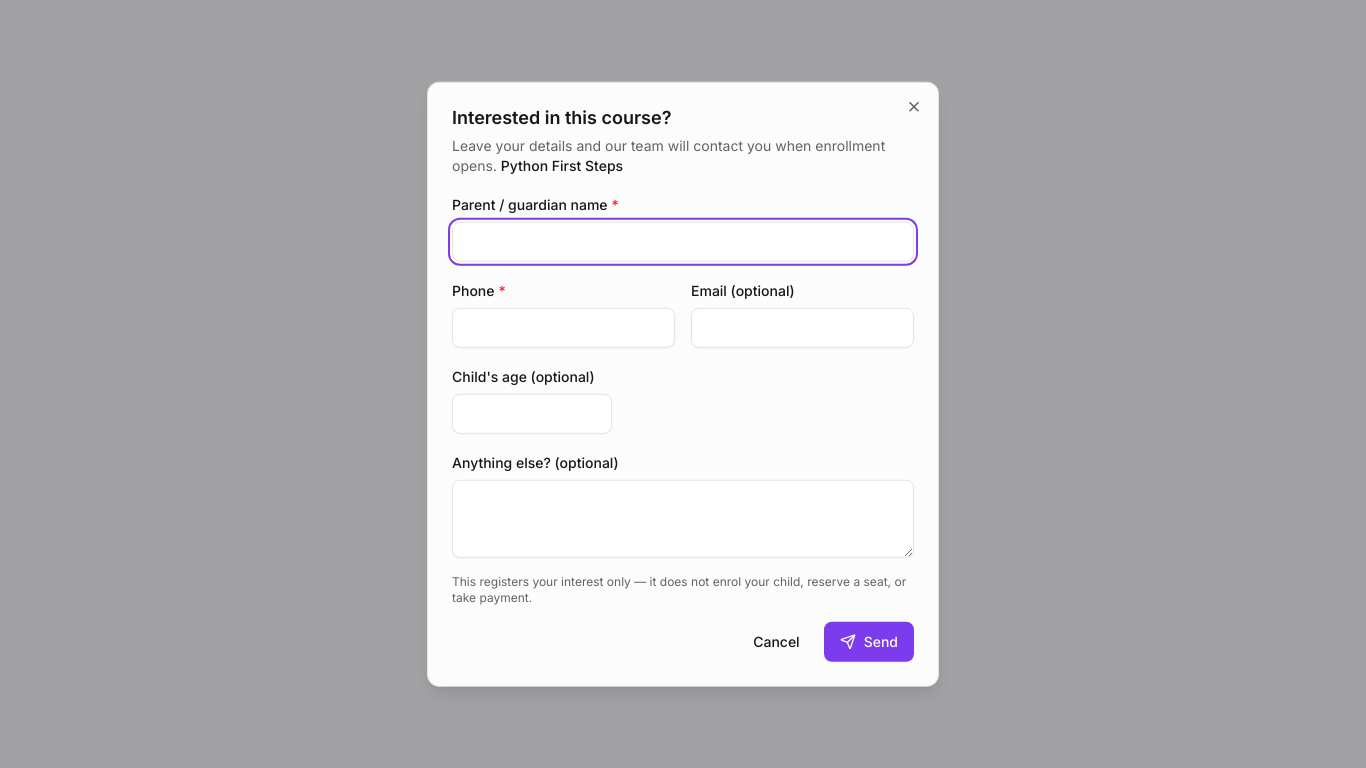
Test: InterestDialog › submits a valid course lead and shows the safe success copy
In the field labelled "Parent / guardian name*": (683,241) 452,221 -> 914,261, type "Ali Ahmed"
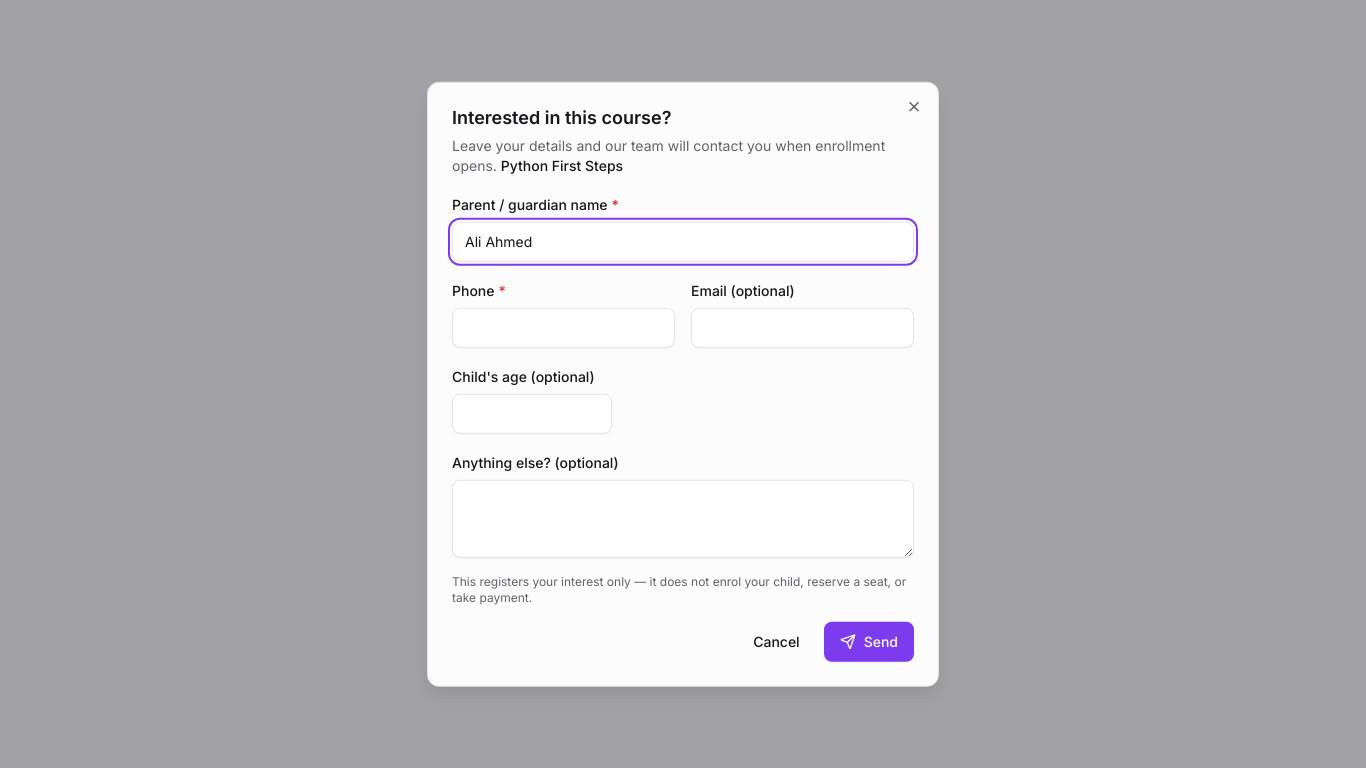
In the field labelled "Phone*": (564,327) 452,307 -> 675,347, type "+20 100 000 0000"
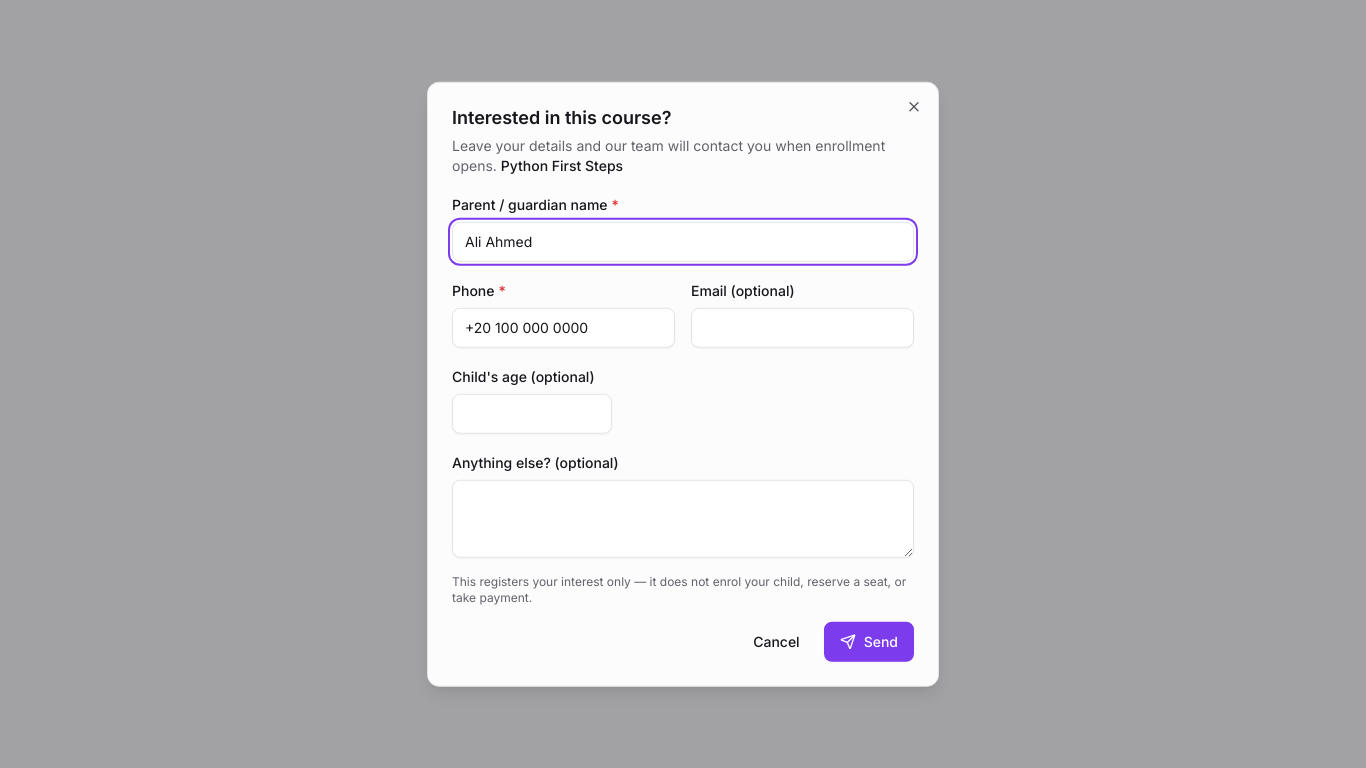
Click the button "Send": (869,641) 824,621 -> 914,661
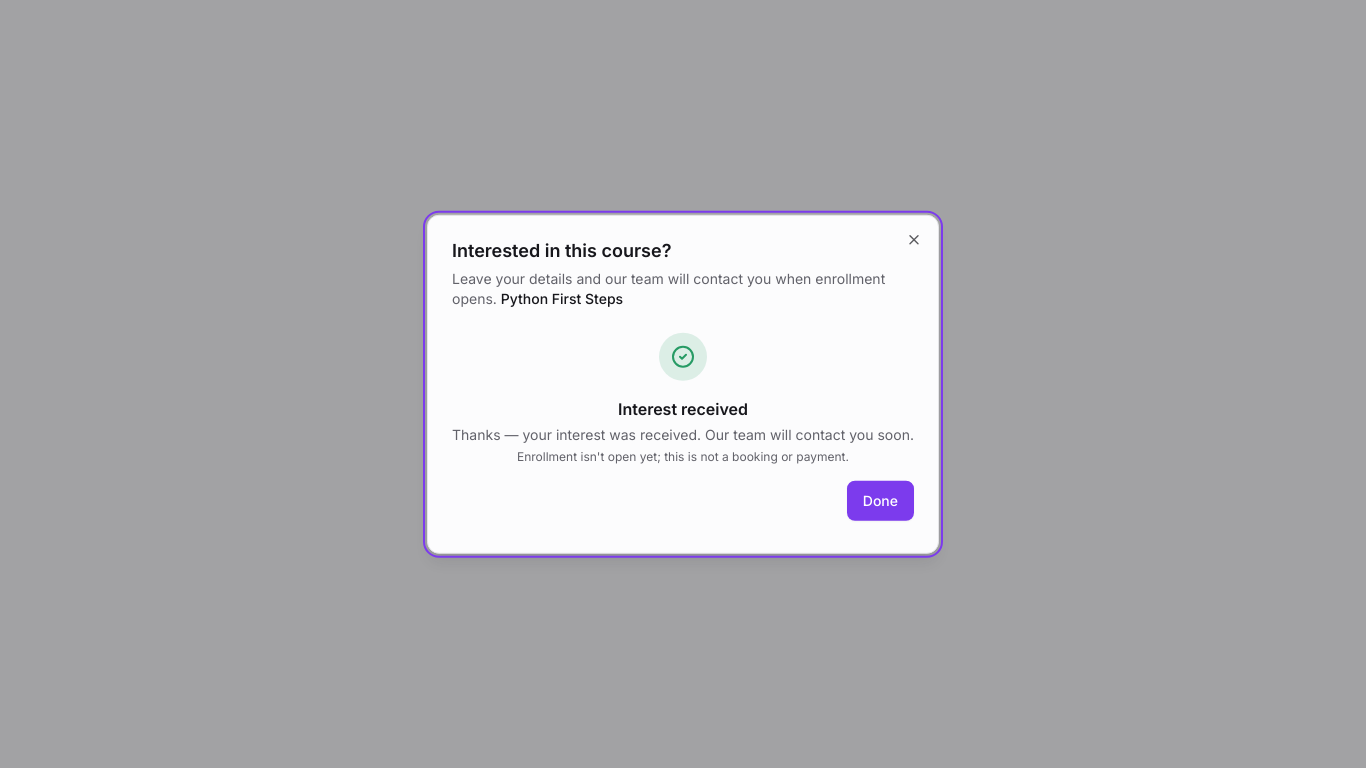
Check: the text "interest was received" is shown, box 452,425 -> 914,442
Check: the text "Enrollment isn't open yet; this is not a booking or payment." is shown, box 517,448 -> 849,463
